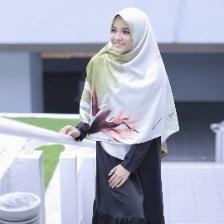HijabSyar-i: (78, 7, 179, 161)
